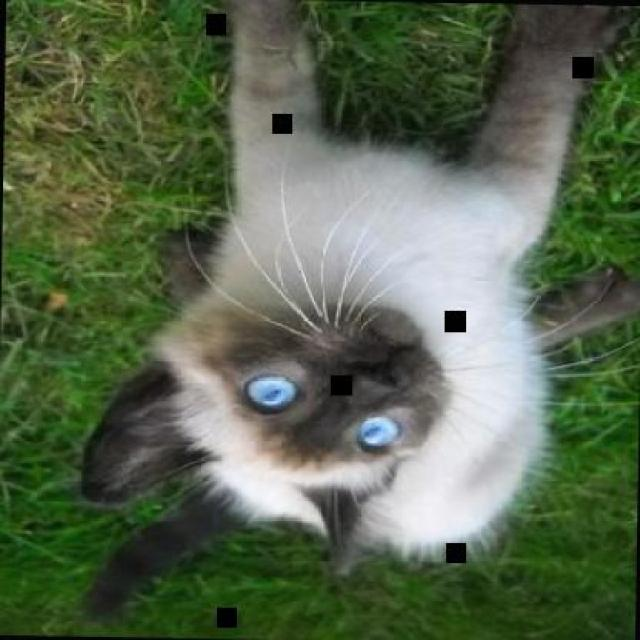cat: (79, 0, 638, 622)
